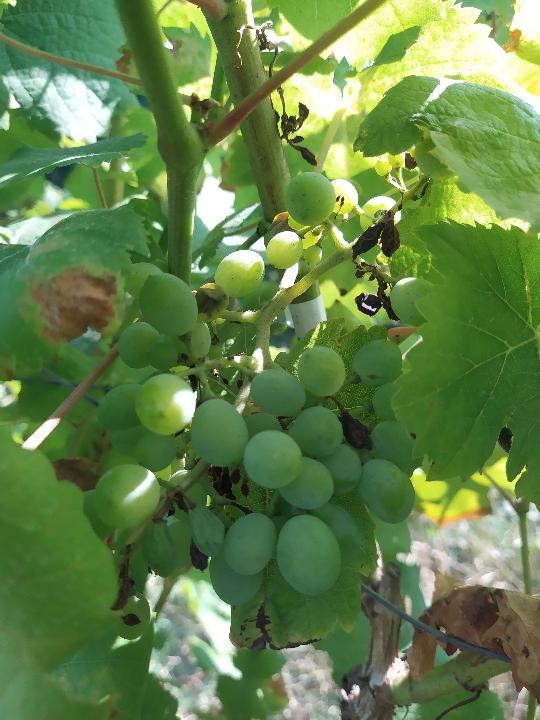grape: (87, 171, 430, 608)
